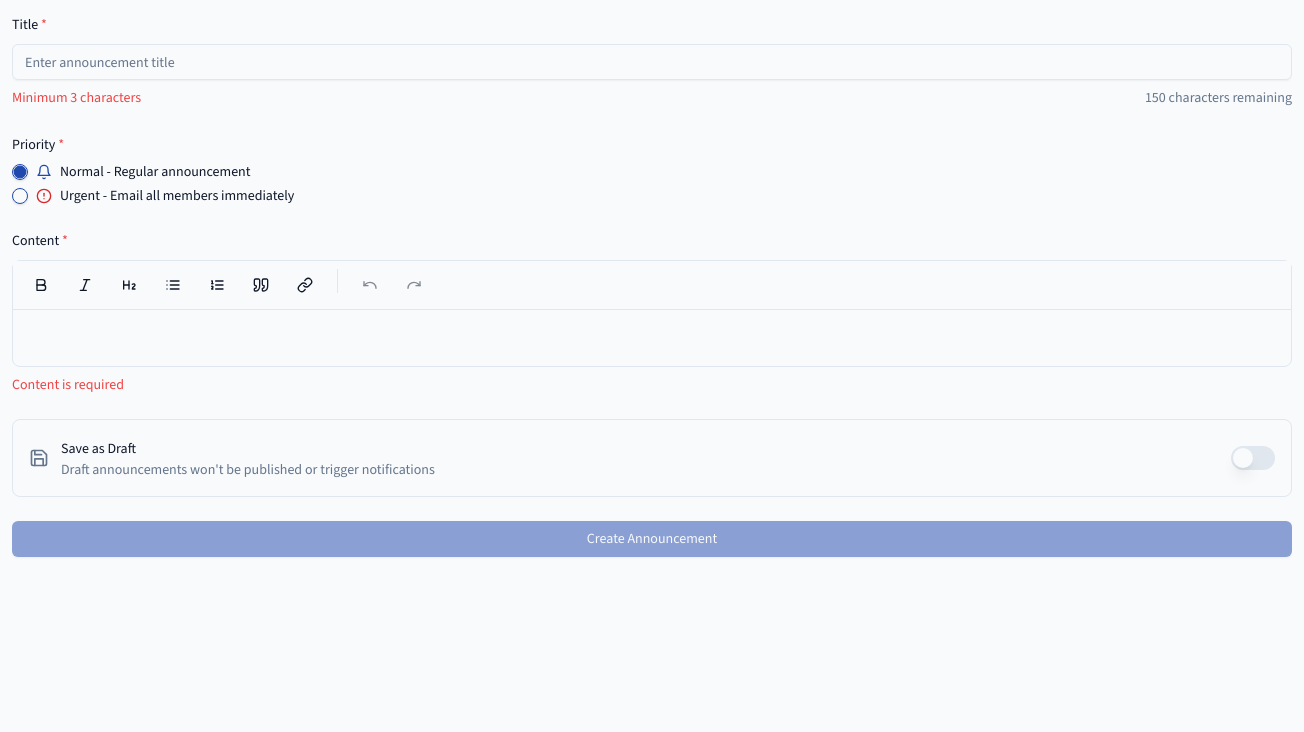
Test: AnnouncementForm › Validation - Title › should show character counter for title
The width and height of the screenshot is (1304, 732).
Type "Test" into the field labelled "Title *".
click(652, 62); type("Test")  # box [12,44,1292,80]
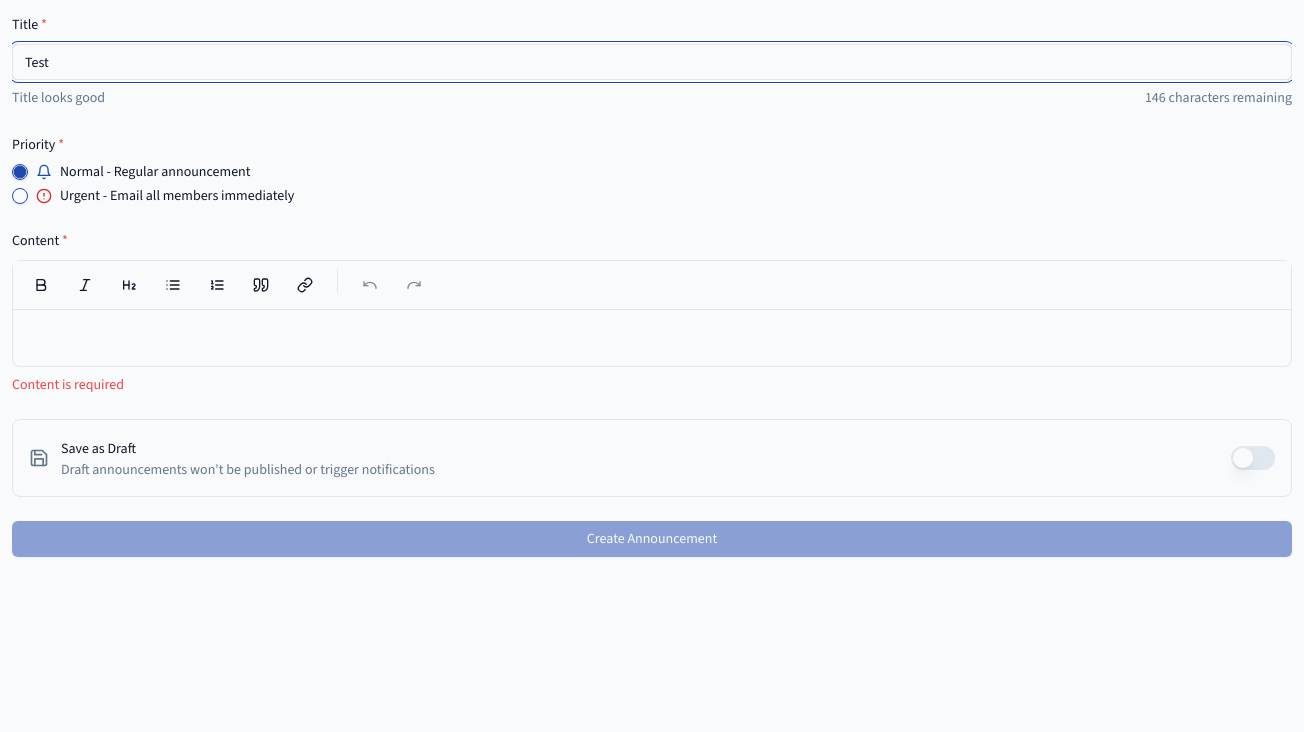
Expected: the text "146 characters remaining" is shown, [1145,88,1292,108]
